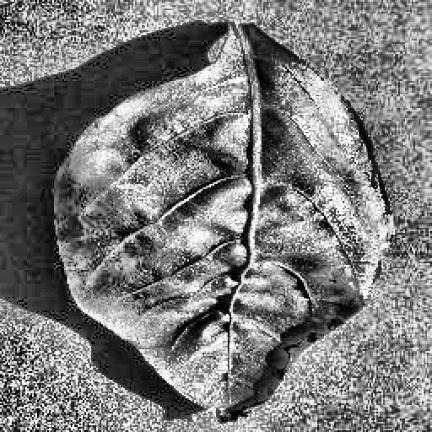leaf: (56, 22, 392, 418)
